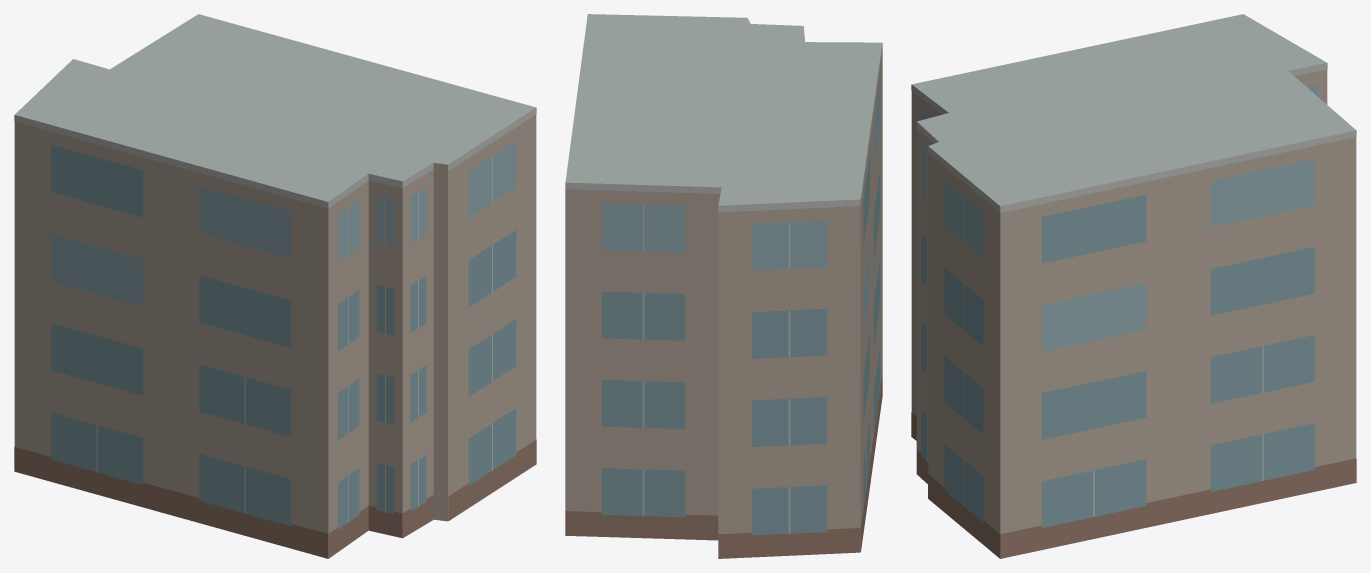
Rendered from survey-upis-32694807.glb.
3 renders of one model, left to right at view 1: azimuth 30°, elevation 25°; view 2: azimuth 150°, elevation 25°; view 3: azimuth 270°, elevation 25°, orthographic.
Parts seen in each view (by area): view 1: survey-upis-32694807.tmp; view 2: survey-upis-32694807.tmp; view 3: survey-upis-32694807.tmp.
Part boxes in pixels (x1,y1,x2,y2): survey-upis-32694807.tmp: (14,14,536,558); survey-upis-32694807.tmp: (565,14,882,558); survey-upis-32694807.tmp: (911,14,1356,558).
Size of the model in its own units: 15.22 by 13 by 14.88.
